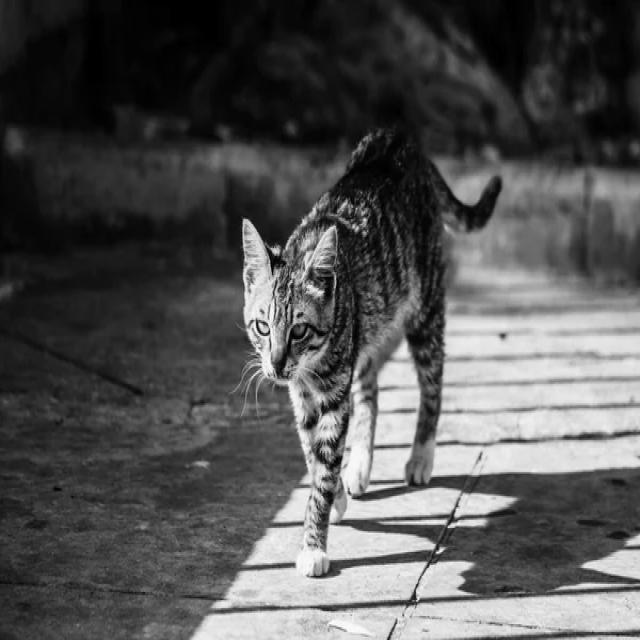Animal: (243, 130, 502, 578)
